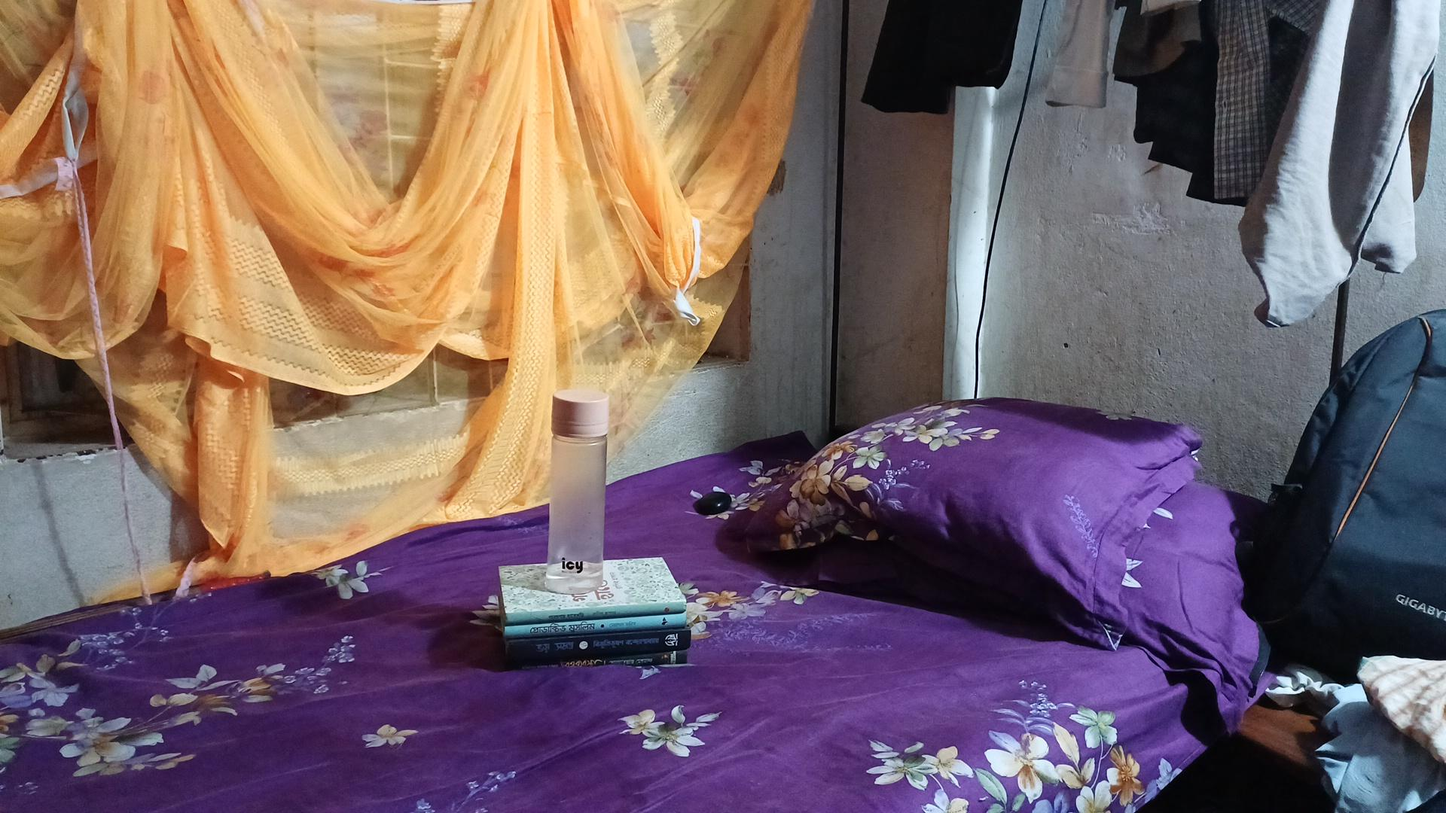Bag: (1258, 286, 1441, 666)
Book: (432, 559, 712, 672)
Bottle: (519, 378, 626, 595)
Pillow: (749, 343, 1180, 651)
